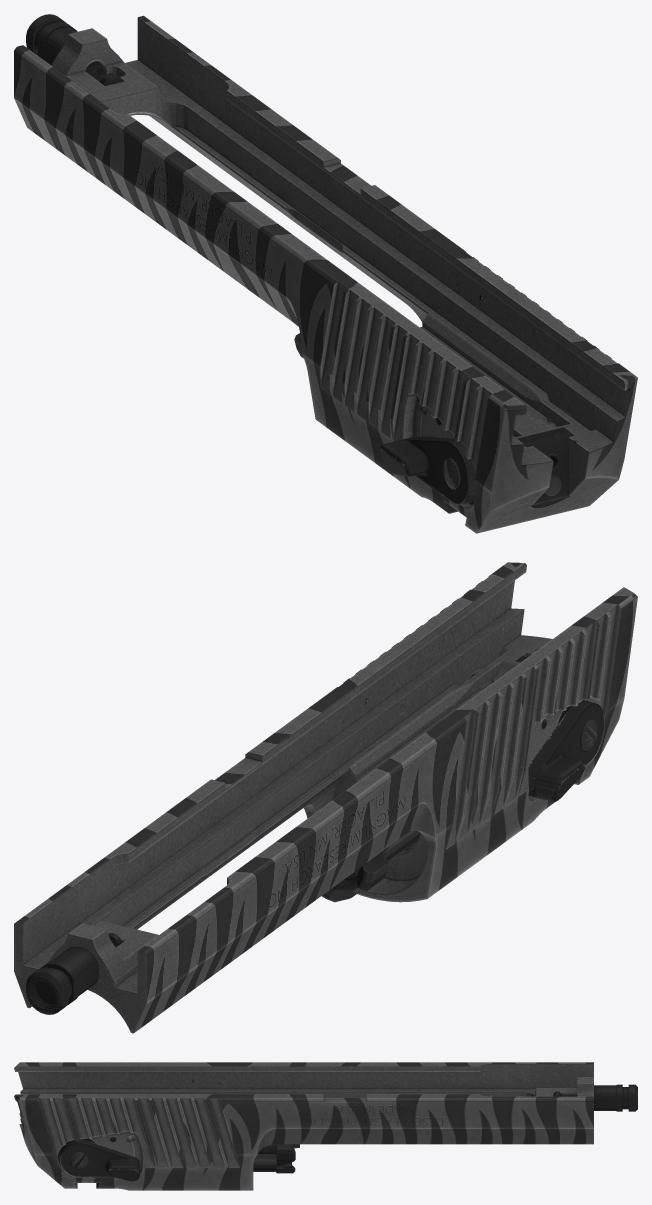
3 views of the same model, one above another, from view 1: azimuth 30°, elevation 25°; view 2: azimuth 150°, elevation 25°; view 3: azimuth 270°, elevation 25° (orthographic). The views are drawn at different scales.
Visible parts, largest first — view 1: TW_669fa5271bd4416eaa09b3ce_PZ_Import; view 2: TW_669fa5271bd4416eaa09b3ce_PZ_Import; view 3: TW_669fa5271bd4416eaa09b3ce_PZ_Import.
Part boxes in pixels (box(x1,y1,x2,y2)): TW_669fa5271bd4416eaa09b3ce_PZ_Import: box(14, 14, 637, 533); TW_669fa5271bd4416eaa09b3ce_PZ_Import: box(14, 562, 637, 1033); TW_669fa5271bd4416eaa09b3ce_PZ_Import: box(14, 1062, 637, 1190).
Bounding box in the file's own units: 0.0262 × 0.1327 × 0.024.
Materials: 1 (1 with a texture image).
